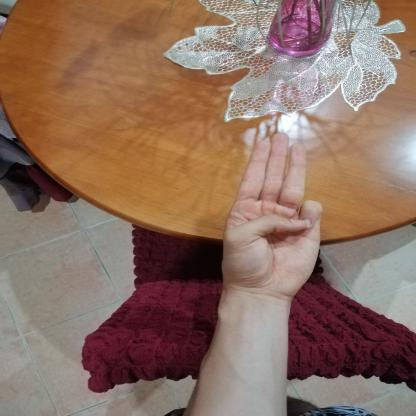THA: (210, 123, 332, 303)
